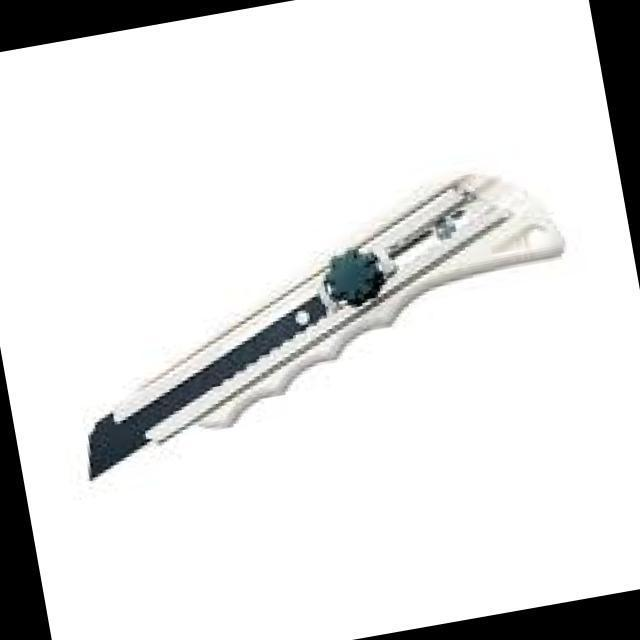cutter: (38, 150, 605, 488)
